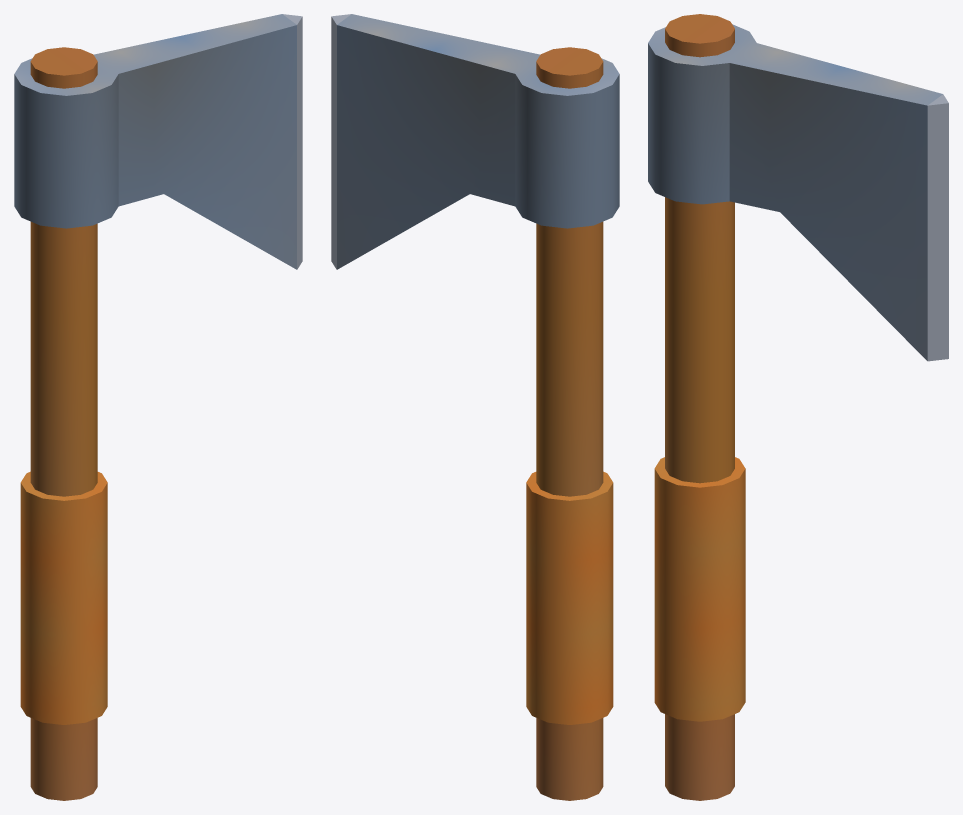
3 renders of one model, left to right at view 1: azimuth 30°, elevation 25°; view 2: azimuth 150°, elevation 25°; view 3: azimuth 330°, elevation 25°, orthographic. The views are drawn at different scales.
Parts seen in each view (by area): view 1: futou; view 2: futou; view 3: futou.
Part boxes in pixels (x1=…): futou: x1=14, y1=14, x2=302, y2=800; futou: x1=331, y1=14, x2=619, y2=800; futou: x1=648, y1=14, x2=948, y2=800.
Bounding box in the file's own units: 50.92 × 125 × 16.35.
